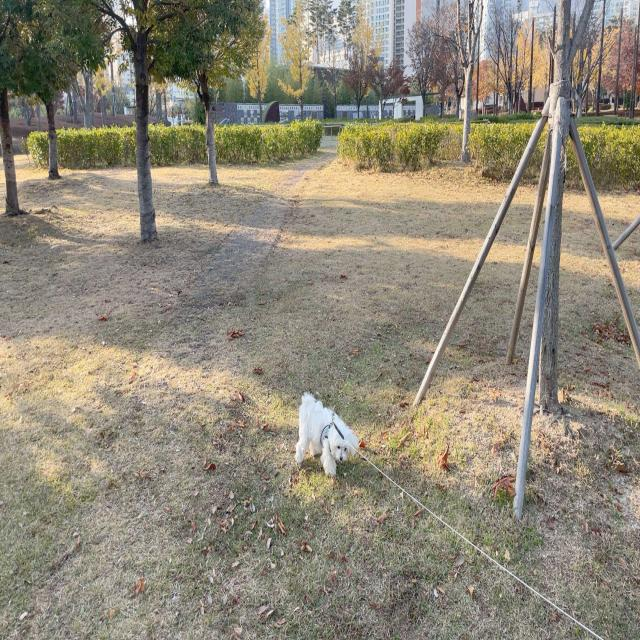Dog: (294, 388, 360, 479)
